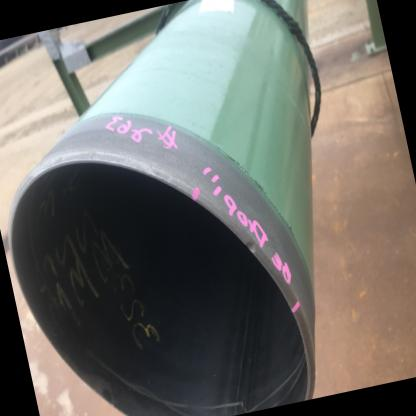Bevel: (242, 238, 260, 256)
